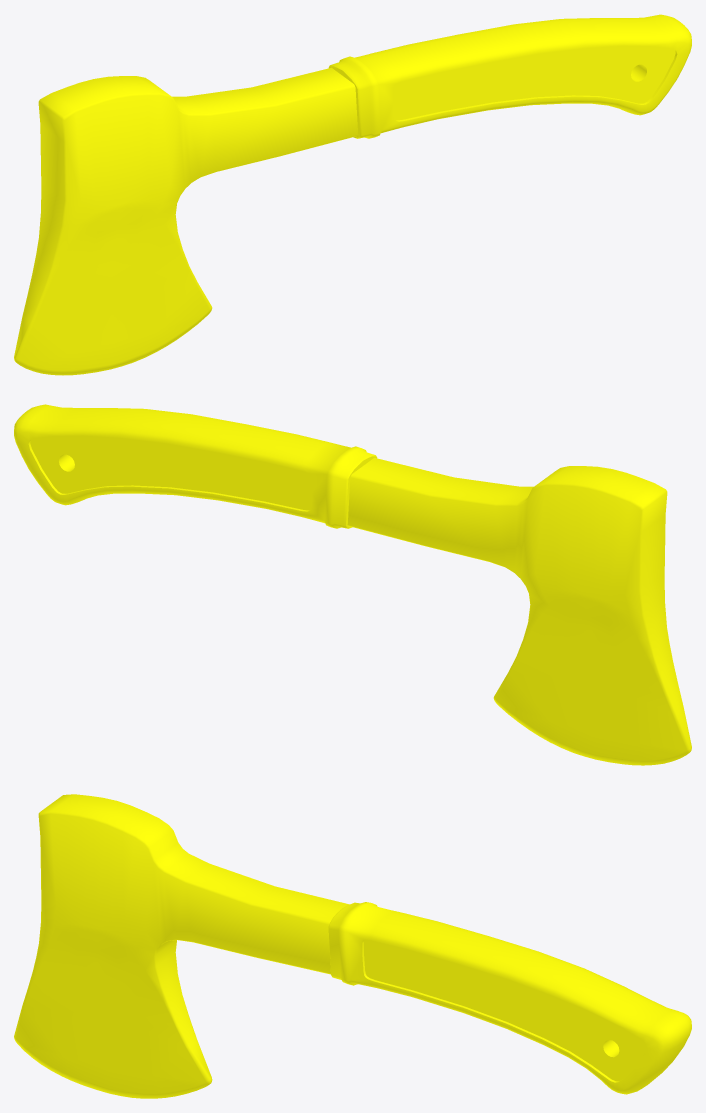
The model's file is SM_Axe_Black_01.glb.
3 views of the same model, one above another, from view 1: azimuth 30°, elevation 25°; view 2: azimuth 150°, elevation 25°; view 3: azimuth 330°, elevation 25° (orthographic).
Parts seen in each view (by area): view 1: SM_Axe_Black_01_LOD0; view 2: SM_Axe_Black_01_LOD0; view 3: SM_Axe_Black_01_LOD0.
Boxes of the visible parts, box(x1,y1,x2,y2) form: SM_Axe_Black_01_LOD0: box(14, 14, 691, 375); SM_Axe_Black_01_LOD0: box(14, 404, 691, 765); SM_Axe_Black_01_LOD0: box(14, 794, 691, 1098).
Size of what is drawn, in the model's own units: 0.6598 by 0.2665 by 0.0565.
1 material, 1 textured.
